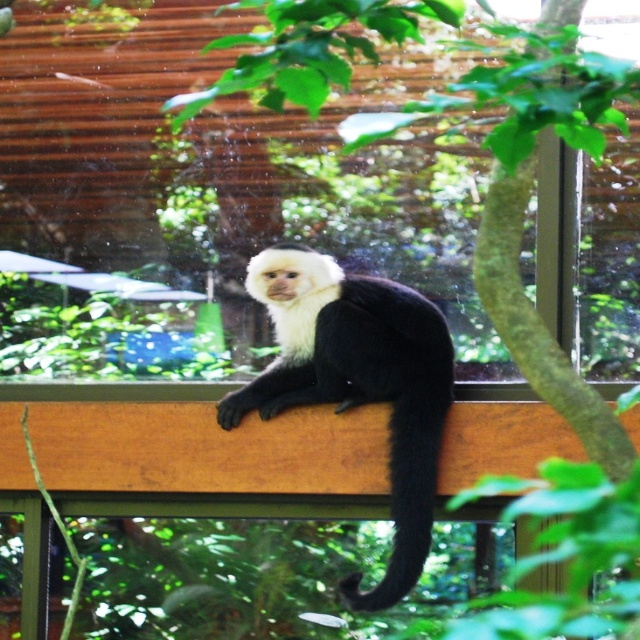Monkey: (205, 245, 474, 579)
